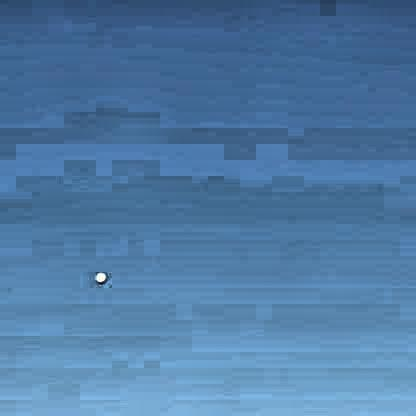golfball: (92, 268, 106, 282)
